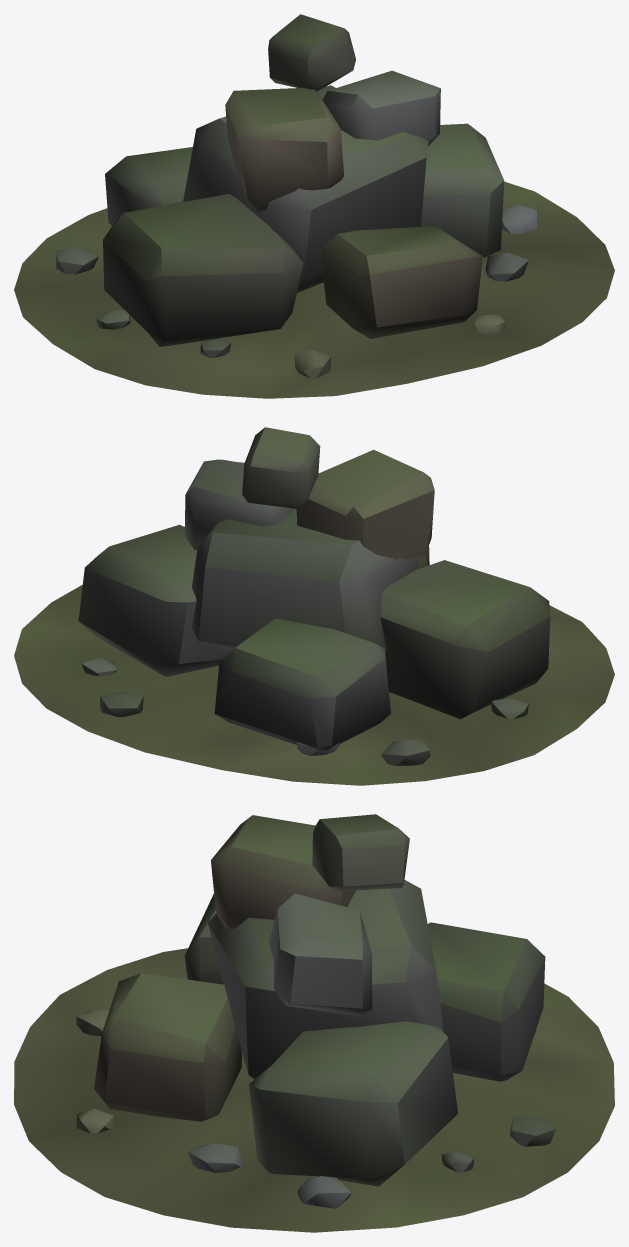
Rendered from ph_prop_rubble_large.glb.
3 views of the same model, one above another, from view 1: azimuth 30°, elevation 25°; view 2: azimuth 150°, elevation 25°; view 3: azimuth 270°, elevation 25° (orthographic). The views are drawn at different scales.
Visible parts, largest first — view 1: ph_prop_rubble_large; view 2: ph_prop_rubble_large; view 3: ph_prop_rubble_large.
Part boxes in pixels (x1=…): ph_prop_rubble_large: x1=14, y1=14, x2=614, y2=398; ph_prop_rubble_large: x1=14, y1=427, x2=614, y2=785; ph_prop_rubble_large: x1=14, y1=814, x2=614, y2=1232.
Bounding box in the file's own units: 1.84 × 0.8267 × 1.59.
